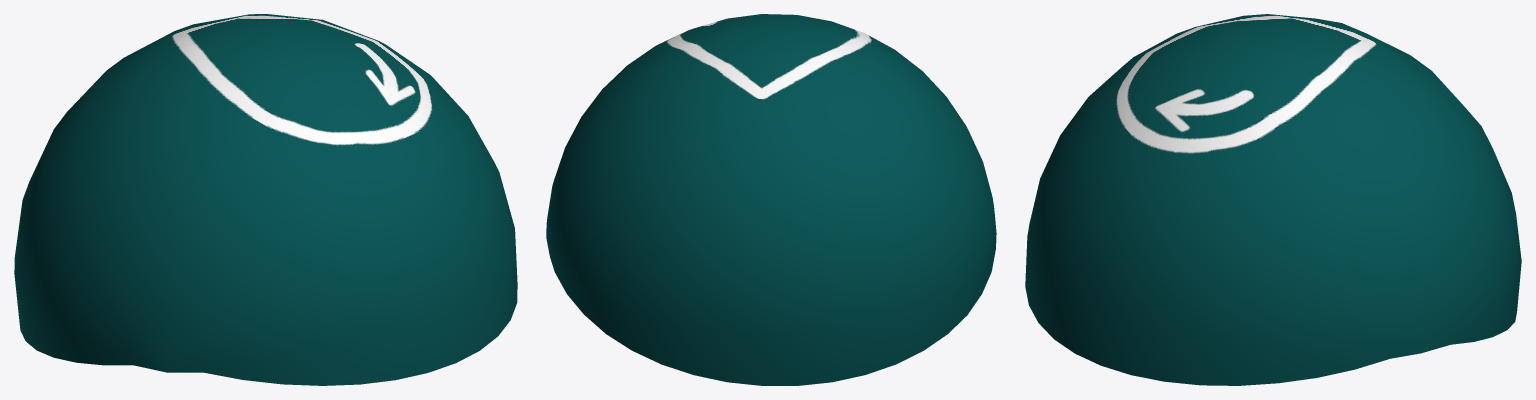
File: Palette_Button_Lower.fbx
3 views of the same model, side by side, from view 1: azimuth 30°, elevation 25°; view 2: azimuth 150°, elevation 25°; view 3: azimuth 270°, elevation 25° (orthographic). The views are drawn at different scales.
Visible parts, largest first — view 1: pSphere51; view 2: pSphere51; view 3: pSphere51.
Part boxes in pixels (x1=…): pSphere51: x1=14, y1=14, x2=517, y2=385; pSphere51: x1=546, y1=14, x2=996, y2=385; pSphere51: x1=1025, y1=14, x2=1521, y2=385.
Bounding box in the file's own units: 2.28 × 1.46 × 2.29.
Materials: 1 (1 with a texture image).
